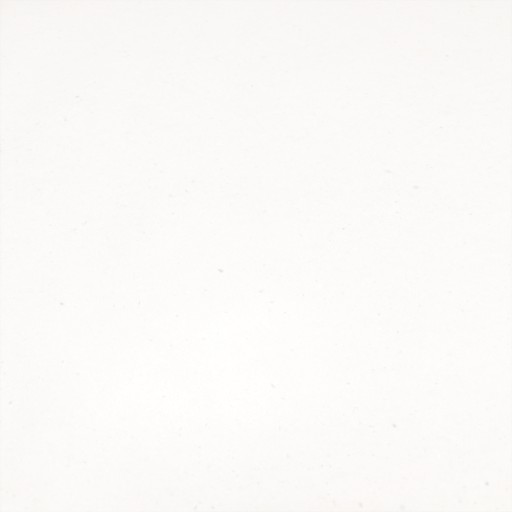lego: (233, 201, 278, 311)
